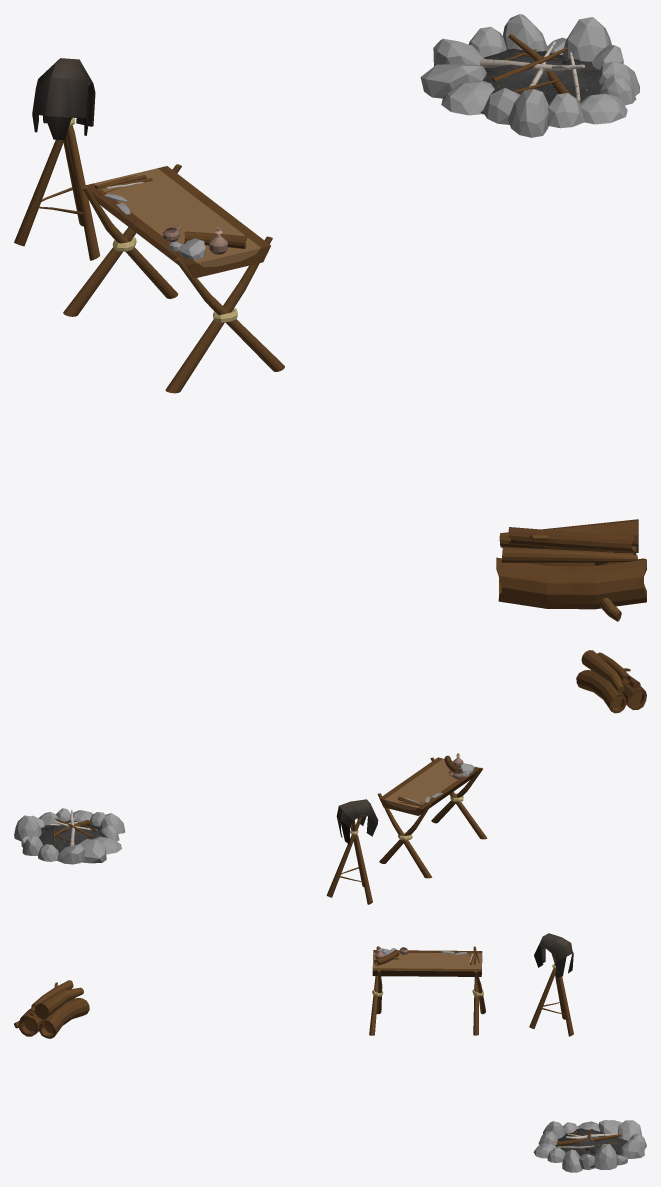
The picture shows the model from 3 angles, top to bottom: view 1: azimuth 30°, elevation 25°; view 2: azimuth 150°, elevation 25°; view 3: azimuth 270°, elevation 25°; orthographic projection. The views are drawn at different scales.
Visible parts, largest first — view 1: TableSmithery, Fireplace stones.001, Branchesstack.003, HideDryer.001, Fireplace ashpile.001; view 2: TableSmithery, Fireplace stones.001, Branchesstack.003, HideDryer.001, Fireplace ashpile.001; view 3: TableSmithery, Fireplace stones.001, Branchesstack.003, HideDryer.001, Fireplace ashpile.001.
Boxes of the visible parts, bbox=[...] form: TableSmithery: bbox=[63, 164, 284, 393]; Fireplace stones.001: bbox=[420, 14, 639, 137]; Branchesstack.003: bbox=[496, 519, 646, 621]; HideDryer.001: bbox=[14, 58, 100, 260]; Fireplace ashpile.001: bbox=[480, 48, 601, 114]; TableSmithery: bbox=[377, 753, 487, 878]; Fireplace stones.001: bbox=[14, 808, 125, 864]; Branchesstack.003: bbox=[576, 650, 646, 713]; HideDryer.001: bbox=[326, 799, 378, 904]; Fireplace ashpile.001: bbox=[39, 820, 107, 852]; TableSmithery: bbox=[369, 946, 485, 1035]; Fireplace stones.001: bbox=[533, 1120, 646, 1172]; Branchesstack.003: bbox=[14, 980, 89, 1038]; HideDryer.001: bbox=[529, 933, 573, 1036]; Fireplace ashpile.001: bbox=[555, 1128, 627, 1167].
Size of the model in its own units: 5.3 by 1.36 by 8.57.
23 materials, 23 textured.
